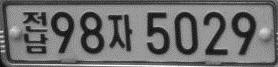0: (174, 10, 198, 55)
2: (202, 10, 228, 55)
5: (146, 11, 170, 55)
8: (79, 11, 105, 53)
9: (231, 10, 257, 55), (50, 10, 75, 53)
자: (107, 14, 133, 51)
전남_V: (22, 11, 48, 54)
